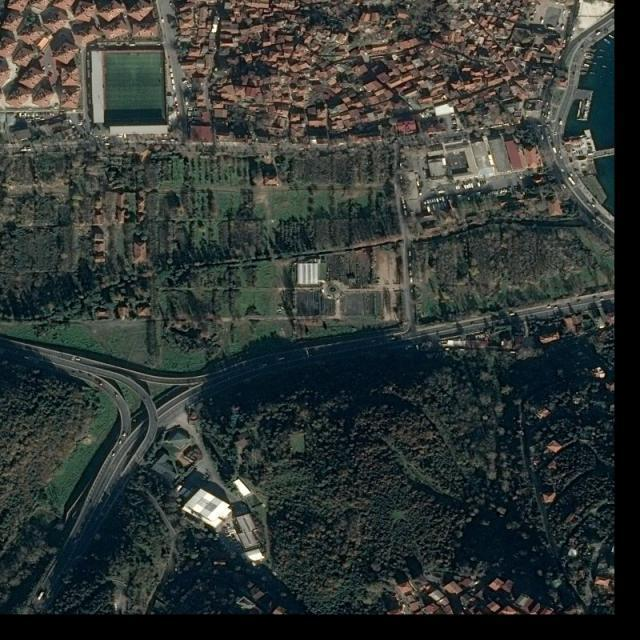ship: (583, 63, 591, 68), (604, 38, 610, 44), (598, 49, 606, 53), (609, 34, 614, 39), (602, 65, 608, 69), (593, 62, 598, 66), (597, 56, 603, 58), (589, 72, 595, 74)
